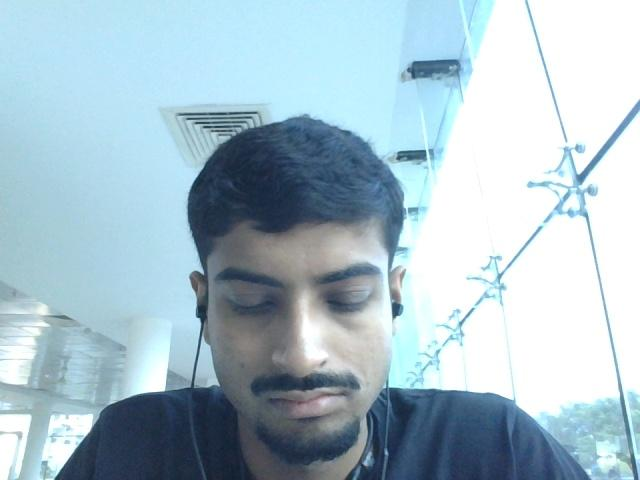average: (172, 123, 450, 467)
